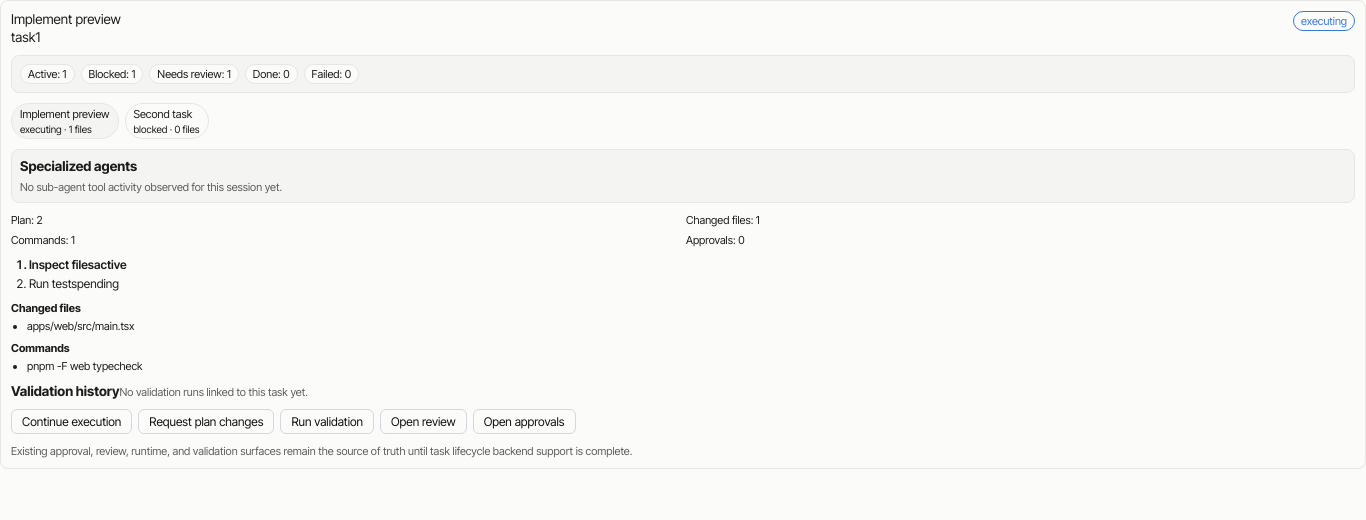
<TaskBoard/> › switches between multiple tasks
Click the button "Second task blocked · 0 files" at (167, 121), box [124,103,209,139]
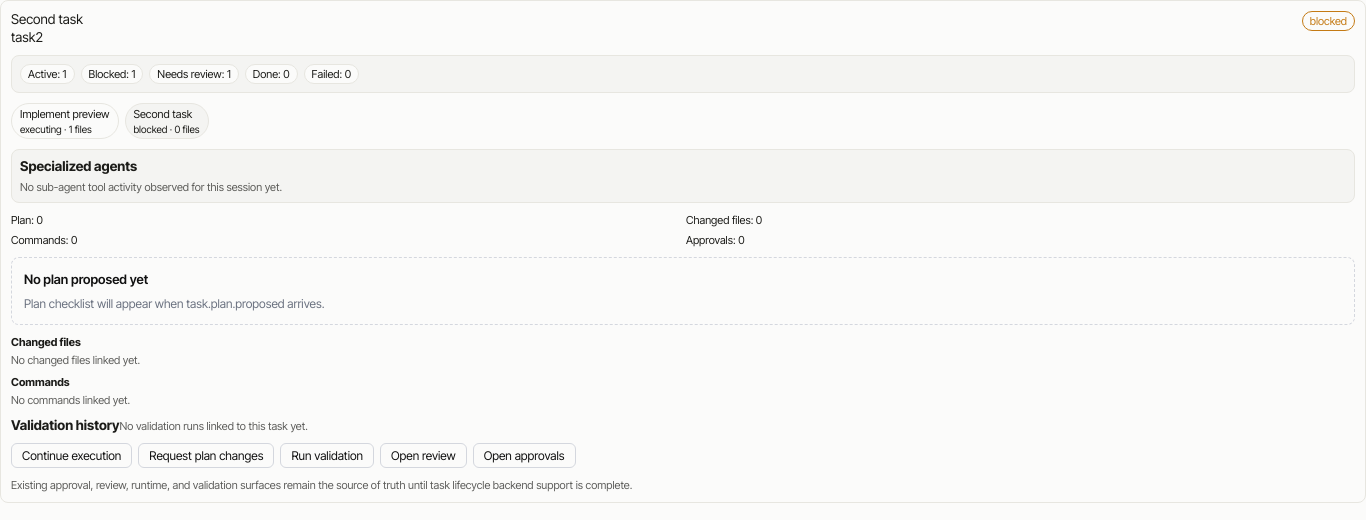
Check: the 1st text "Second task" is shown, box [11,11,83,27]
Check: the text "task2" is shown, box [11,29,43,45]
